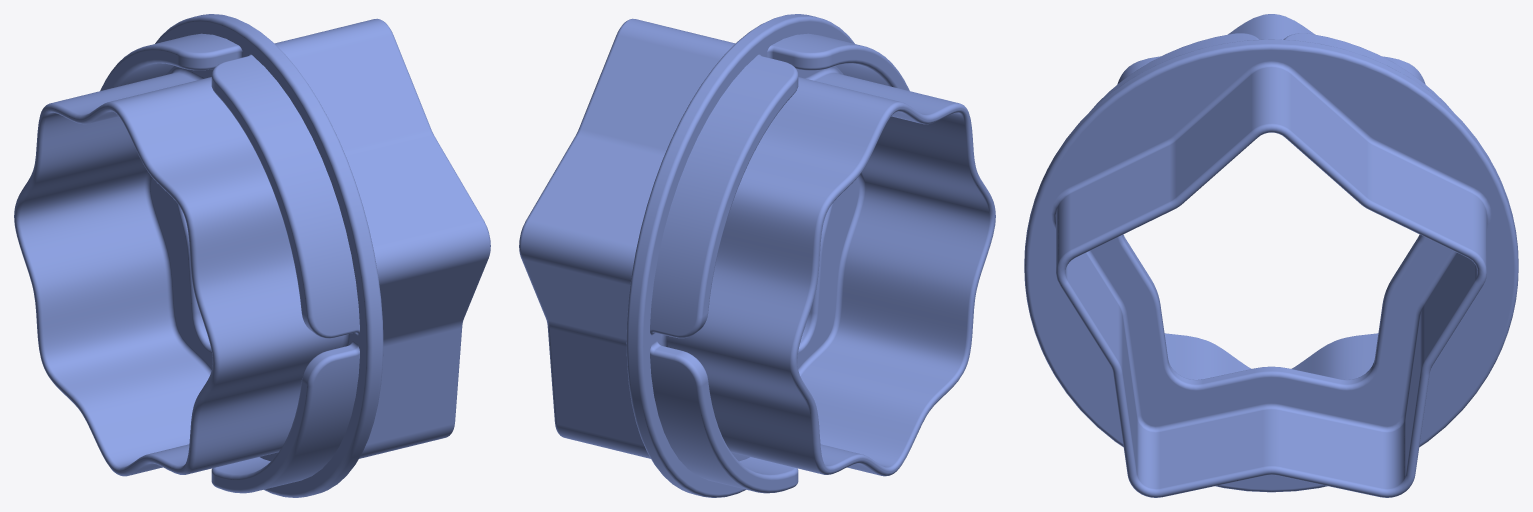
Rendered from 241218 - tchibo - 4 in 1 rolling pin-R.glb.
The picture shows the model from 3 angles, left to right: view 1: azimuth 30°, elevation 25°; view 2: azimuth 150°, elevation 25°; view 3: azimuth 270°, elevation 25°; orthographic projection.
Visible parts, largest first — view 1: Body-Move/Copy1; view 2: Body-Move/Copy1; view 3: Body-Move/Copy1.
Boxes of the visible parts, box(x1,y1,x2,y2) form: Body-Move/Copy1: box(14, 14, 490, 497); Body-Move/Copy1: box(519, 14, 995, 497); Body-Move/Copy1: box(1024, 14, 1518, 497).
Bounding box in the file's own units: 0.033 × 0.052 × 0.052.
